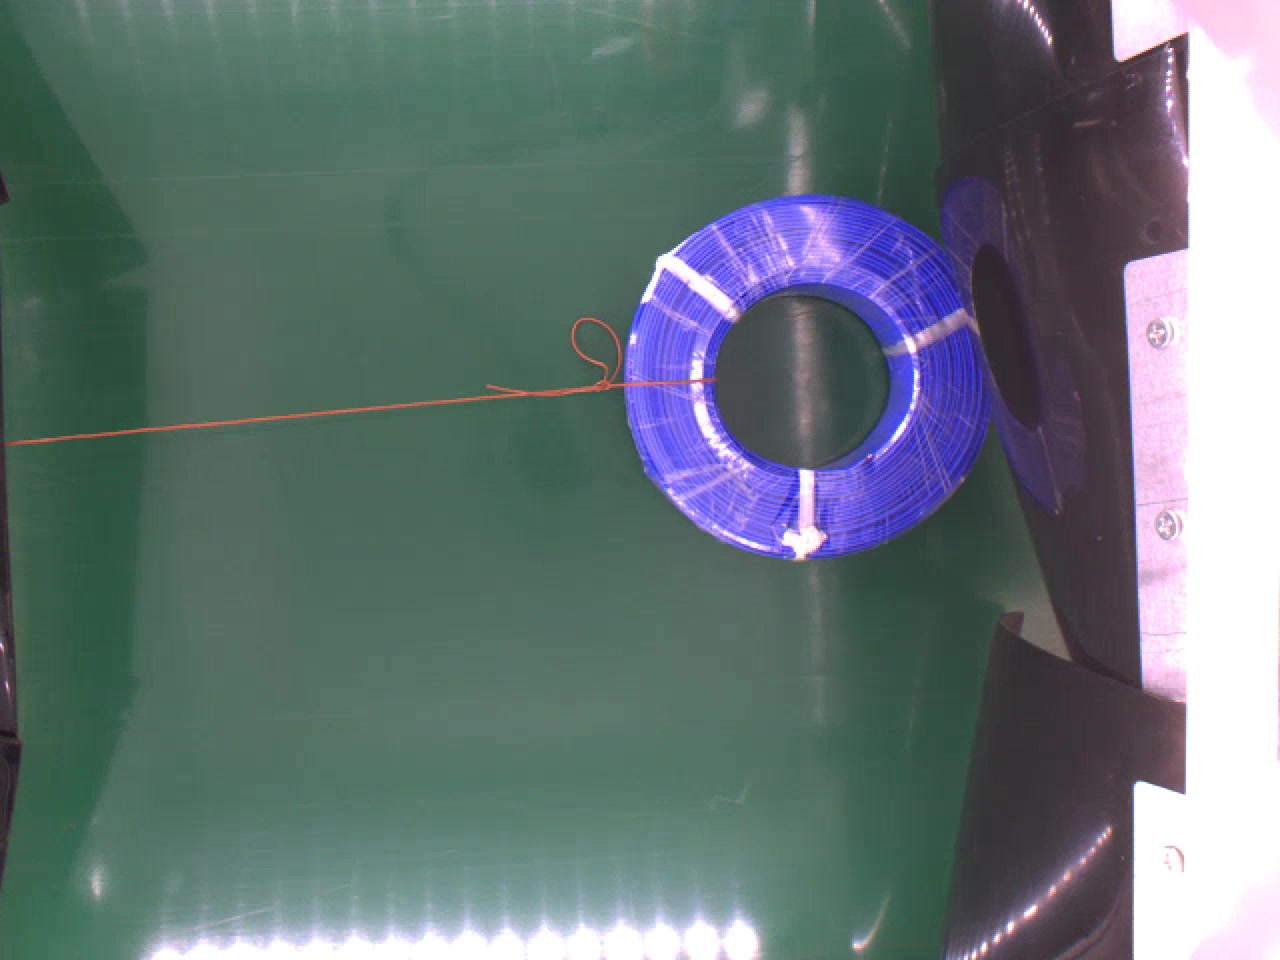blue: (622, 196, 990, 562)
